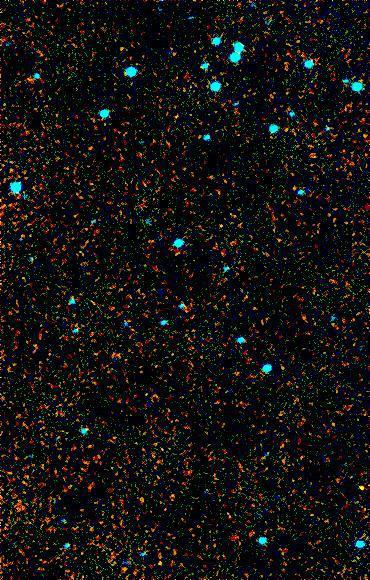star: (344, 473, 370, 503)
